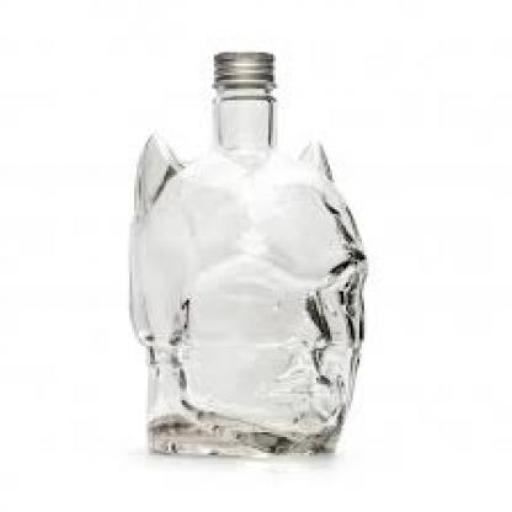glass: (127, 79, 364, 455), (212, 48, 268, 90)
